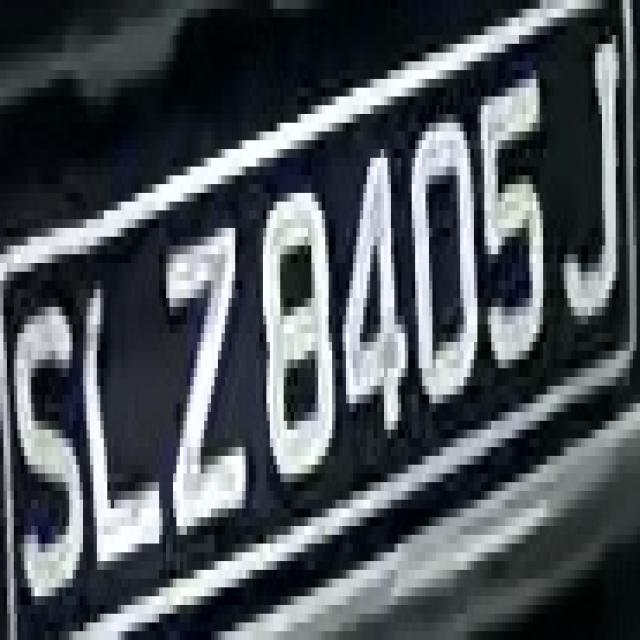0: (398, 105, 481, 403)
4: (328, 122, 412, 464)
5: (470, 79, 557, 386)
8: (249, 167, 346, 482)
J: (550, 9, 626, 324)
L: (83, 263, 166, 596)
S: (14, 272, 83, 640)
Z: (149, 220, 249, 552)
